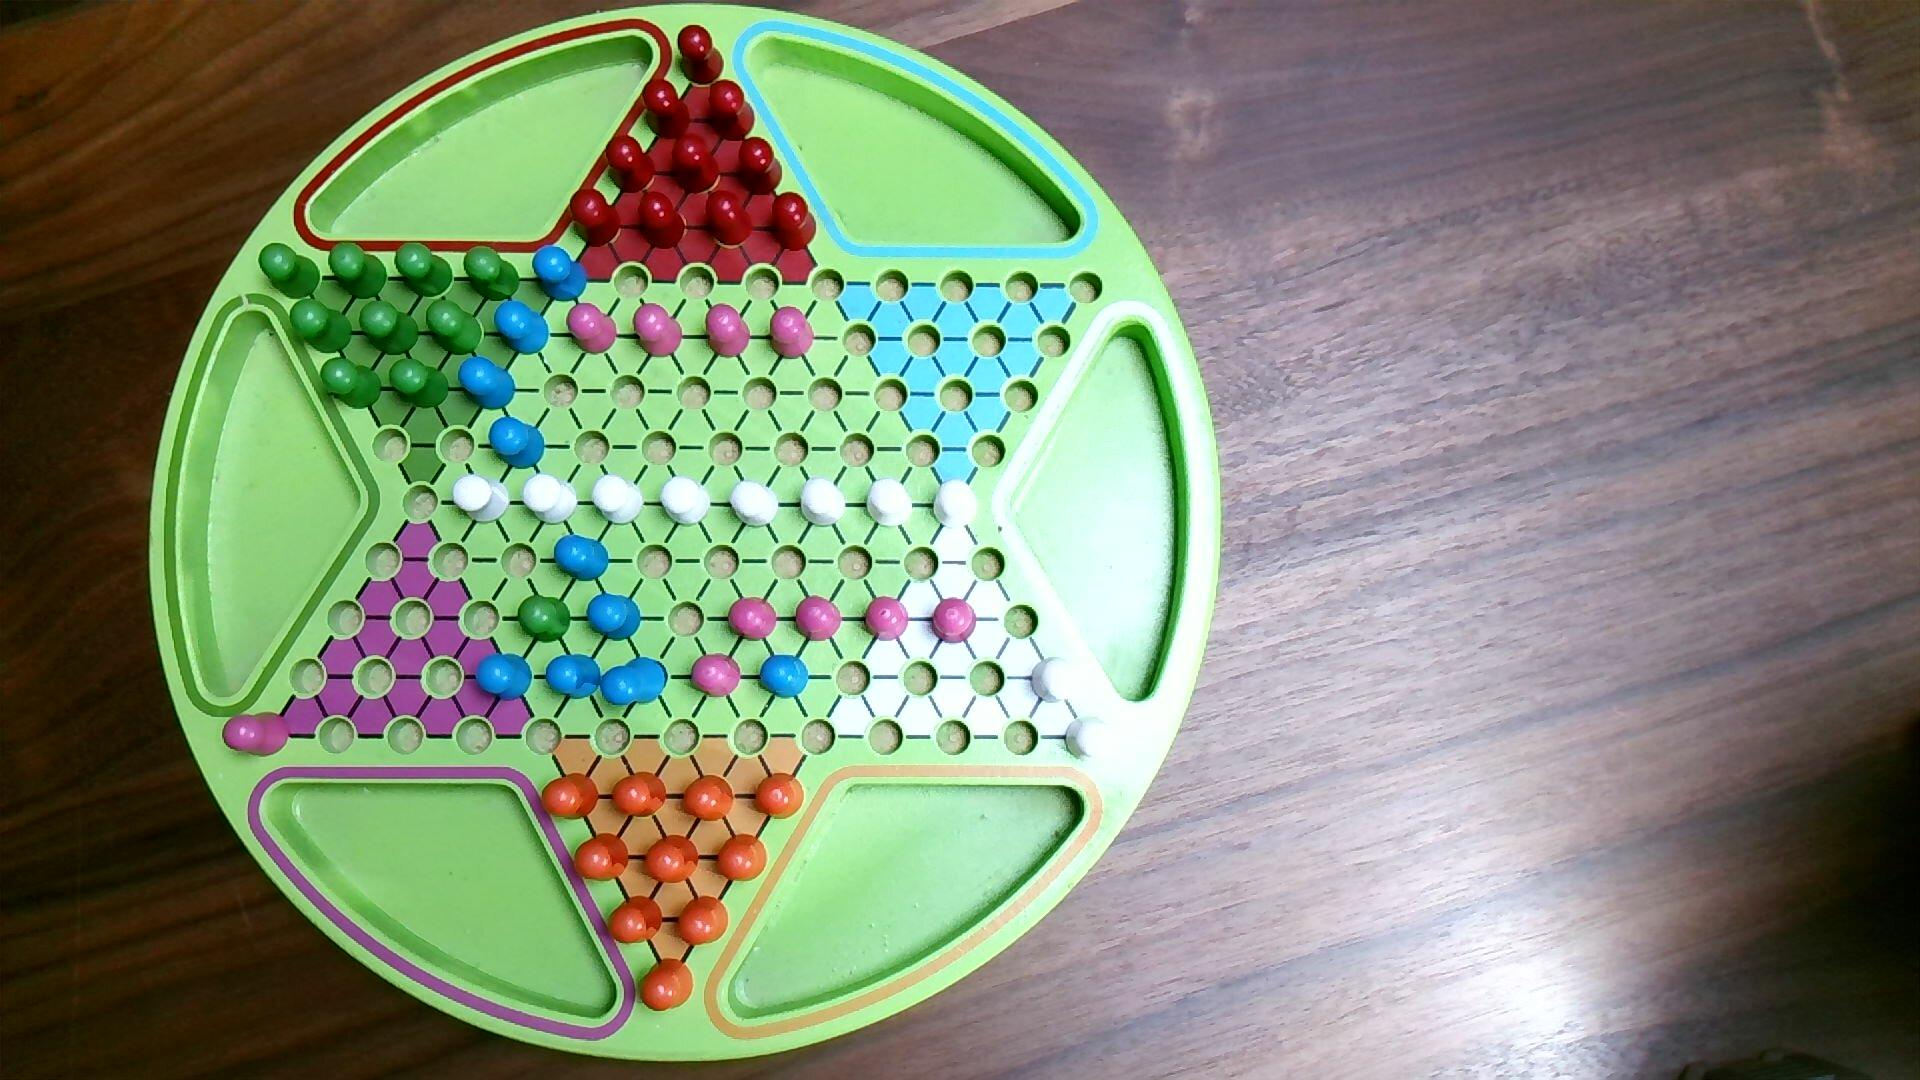B: (599, 655, 670, 708), (531, 244, 589, 305), (458, 356, 518, 413), (493, 301, 551, 357), (488, 415, 547, 471), (473, 651, 534, 703), (585, 592, 644, 644), (553, 534, 611, 584), (545, 651, 603, 702), (760, 655, 811, 702)
G: (257, 241, 322, 301), (289, 297, 353, 355), (425, 298, 485, 357), (328, 241, 389, 301), (359, 299, 421, 357), (393, 243, 455, 301), (463, 244, 522, 303), (320, 356, 384, 411), (389, 357, 451, 411), (517, 593, 574, 645)
O: (637, 957, 696, 1014), (541, 771, 601, 822), (605, 895, 665, 945), (642, 835, 702, 885), (675, 895, 731, 948), (574, 833, 632, 884), (680, 774, 737, 824), (612, 771, 669, 820), (715, 833, 769, 884), (753, 771, 806, 822)
R: (669, 131, 723, 195), (568, 189, 622, 251), (641, 76, 692, 141), (707, 79, 758, 142), (676, 24, 727, 88), (604, 135, 657, 195), (637, 190, 688, 251), (703, 190, 754, 249), (736, 136, 785, 196), (771, 191, 818, 253)
R2: (222, 711, 291, 760), (632, 302, 684, 360), (564, 303, 618, 356), (767, 306, 816, 363), (704, 302, 752, 360), (690, 651, 742, 700), (930, 596, 978, 646), (794, 595, 844, 644), (727, 596, 778, 644), (862, 595, 910, 644)
W: (451, 473, 514, 527), (521, 473, 579, 527), (591, 473, 646, 527), (659, 475, 713, 527), (1029, 655, 1081, 705), (729, 480, 781, 530), (865, 477, 914, 529), (932, 477, 978, 531), (1064, 716, 1116, 764), (799, 477, 847, 529)
